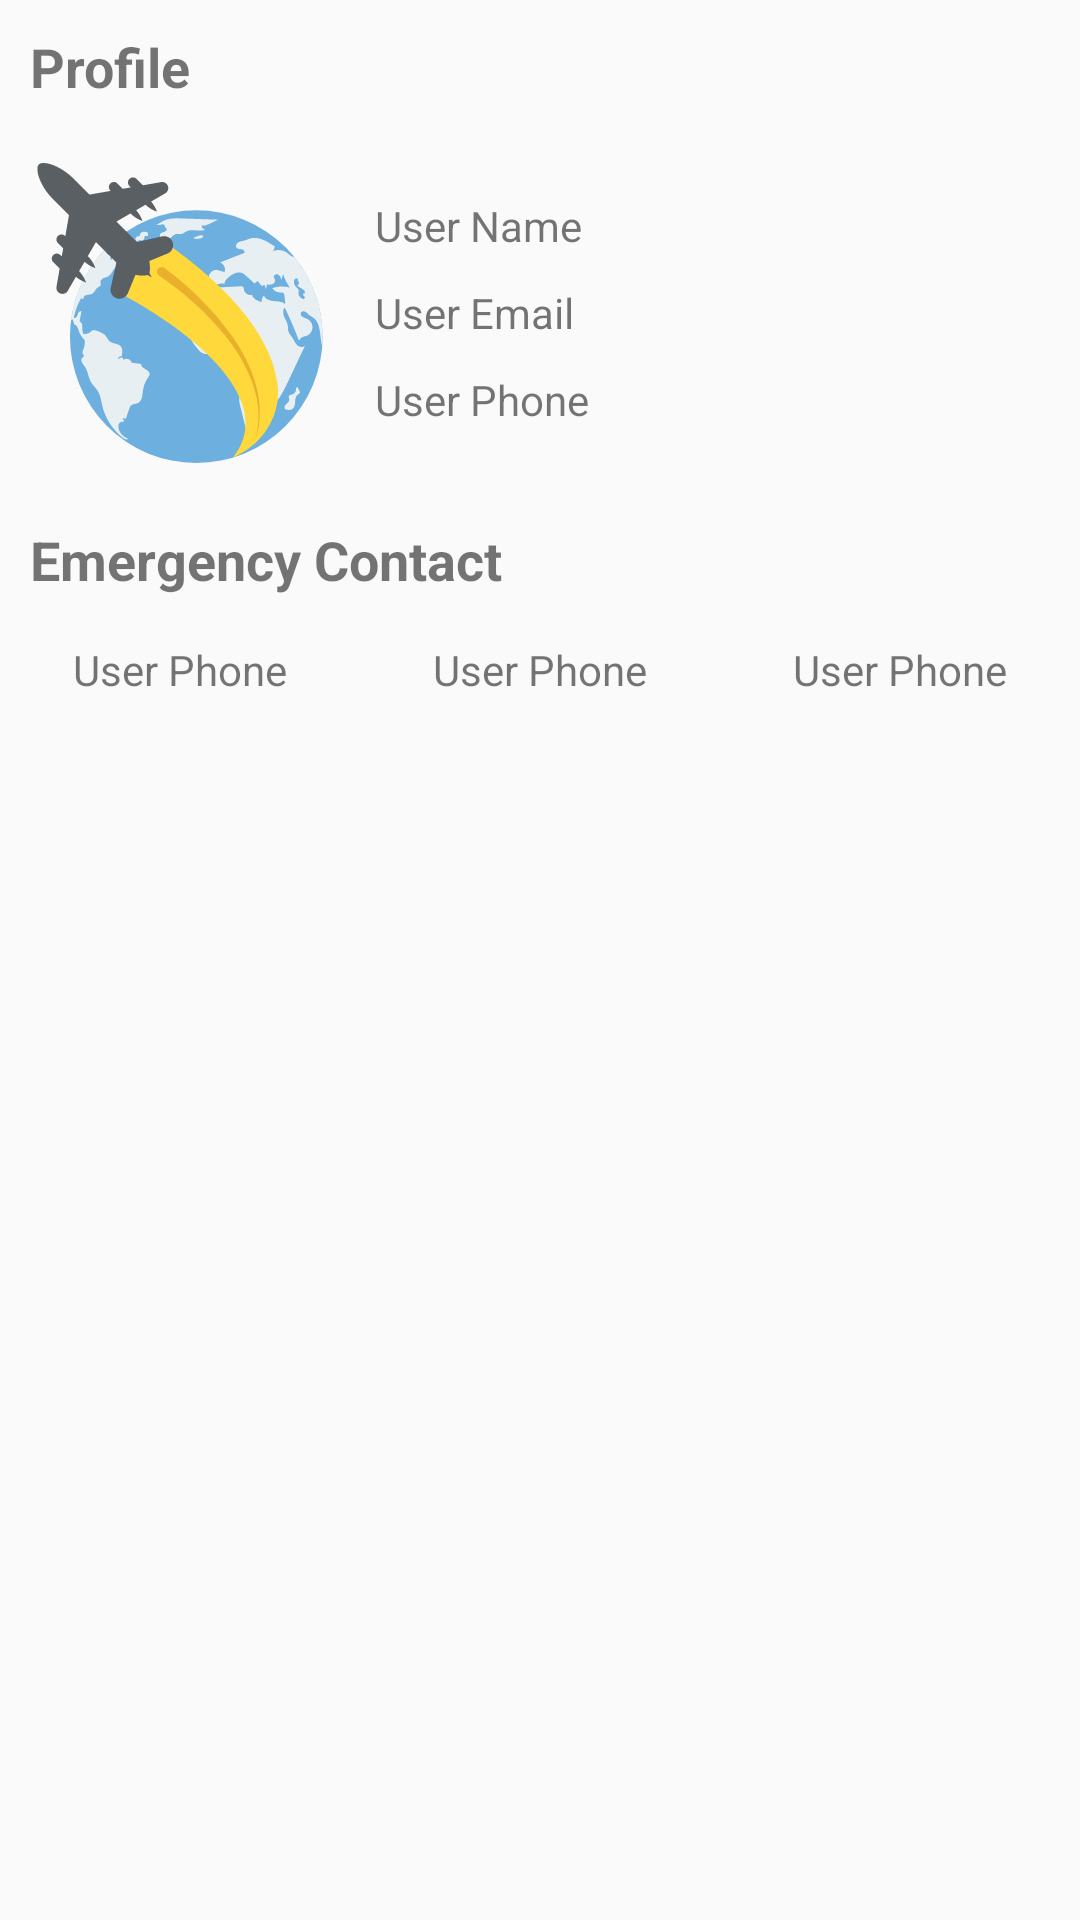

Named icons in this screenshot (1080x1920) and their bounding boxes, (x1, y1, x2, y2):
travel: (37, 163, 323, 463)
